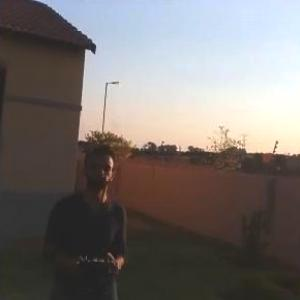follow: (43, 139, 138, 299)
